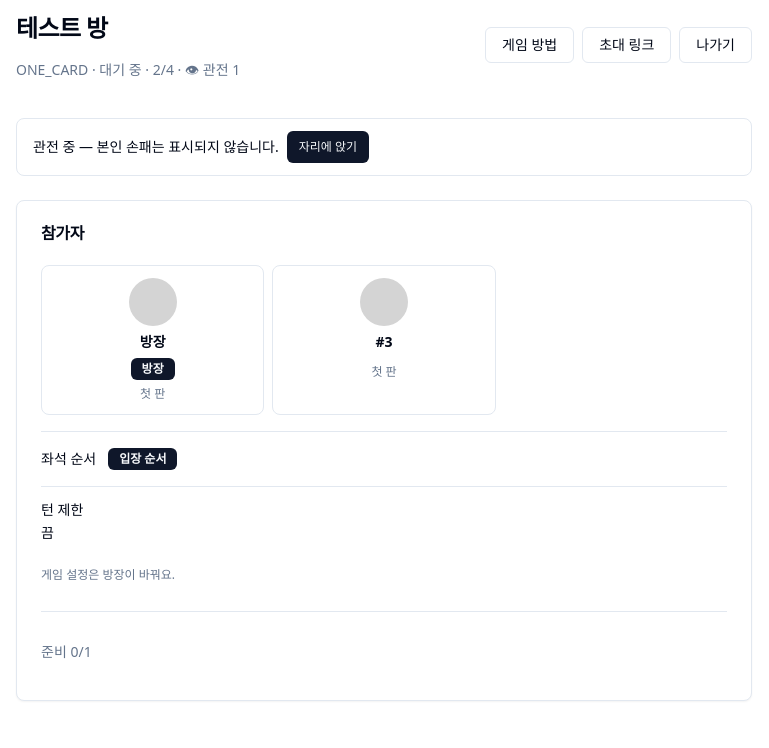
Test case: RoomPage — 관전자 자리에 앉기 (D-137) › 그사이 자리가 차면 서버 문구가 아니라 한국어로 알리고 관전을 이어 간다
Click the button "자리에 앉기" at point(328, 147), box [287,131,369,163]
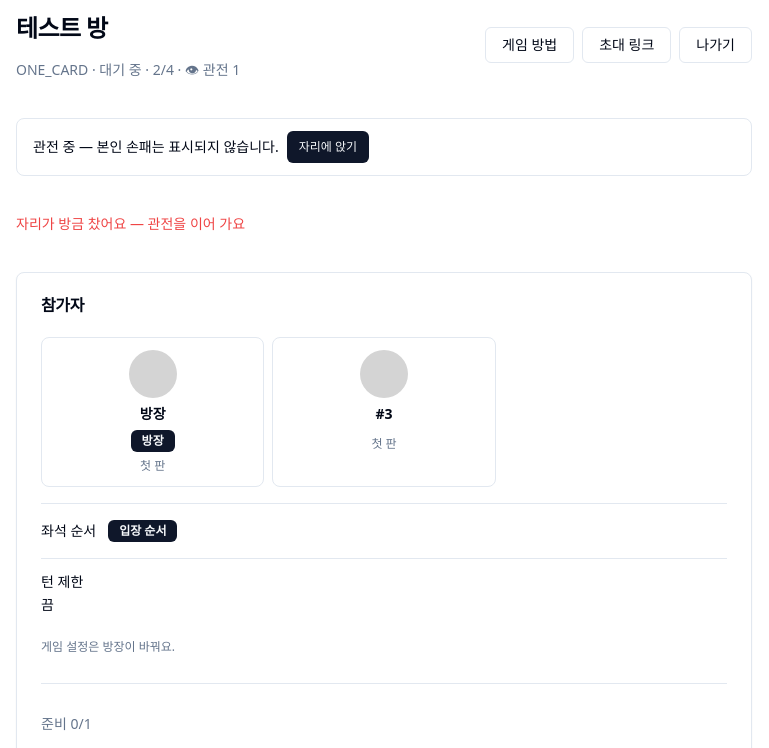
Expected: the text "관전 중 — 본인 손패는 표시되지 않습니다." is shown, [33,137,279,157]
Expected: the text "자리가 방금 찼어요 — 관전을 이어 가요" is shown, [16,214,245,233]
